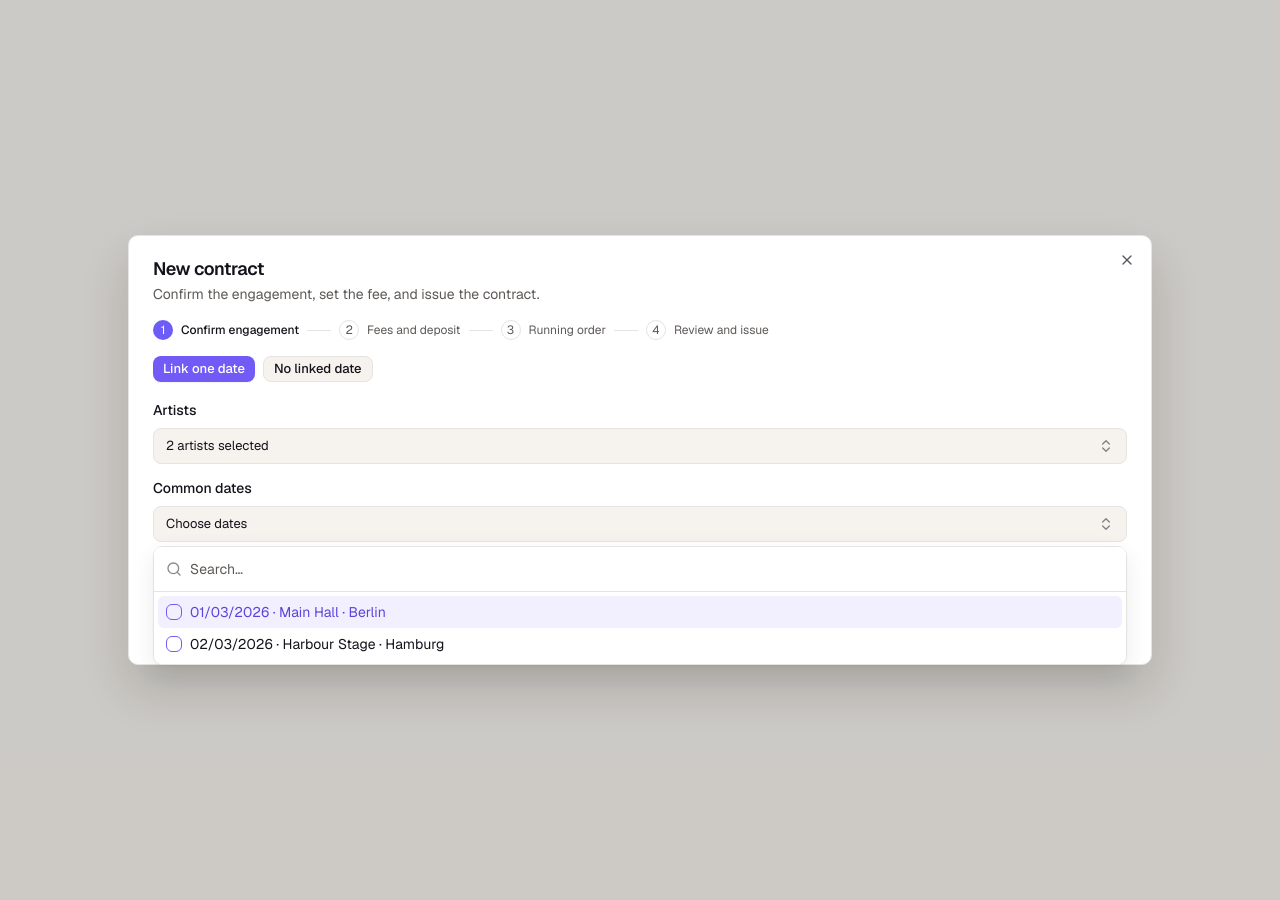
NewOrderWizard › retries only unissued orders and retains partial issue success across attempts
The image size is (1280, 900).
Earlier steps of the test are not shown.
Later steps or results of the test are not shown.
Click the option "01/03/2026 · Main Hall · Berlin" at {"x": 288, "y": 612}, box [158, 596, 1122, 628]
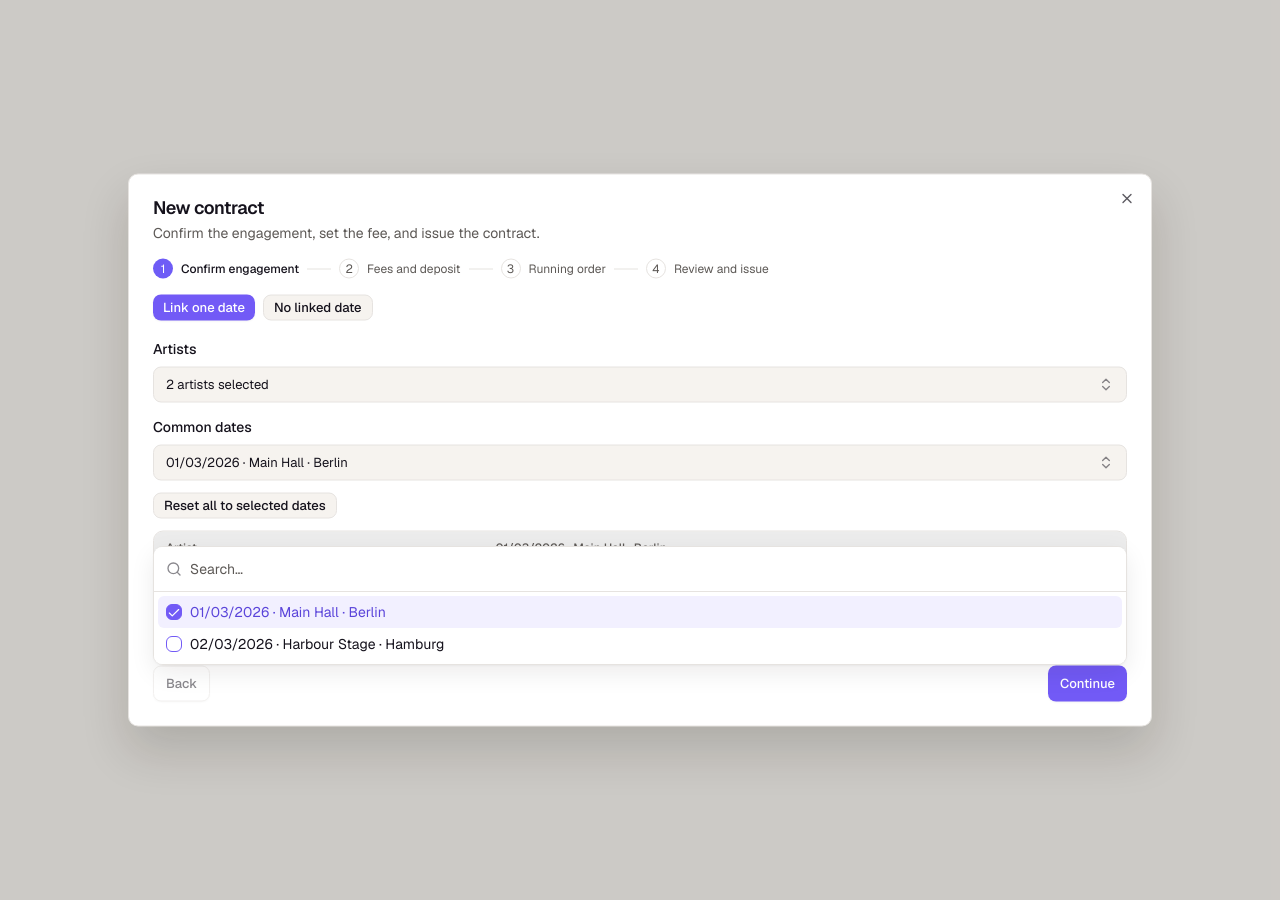
Click the dropdown named "select date" at {"x": 257, "y": 462}, box [153, 444, 1127, 480]
Click the button "Reset all to selected dates" at {"x": 245, "y": 506}, box [153, 492, 337, 518]
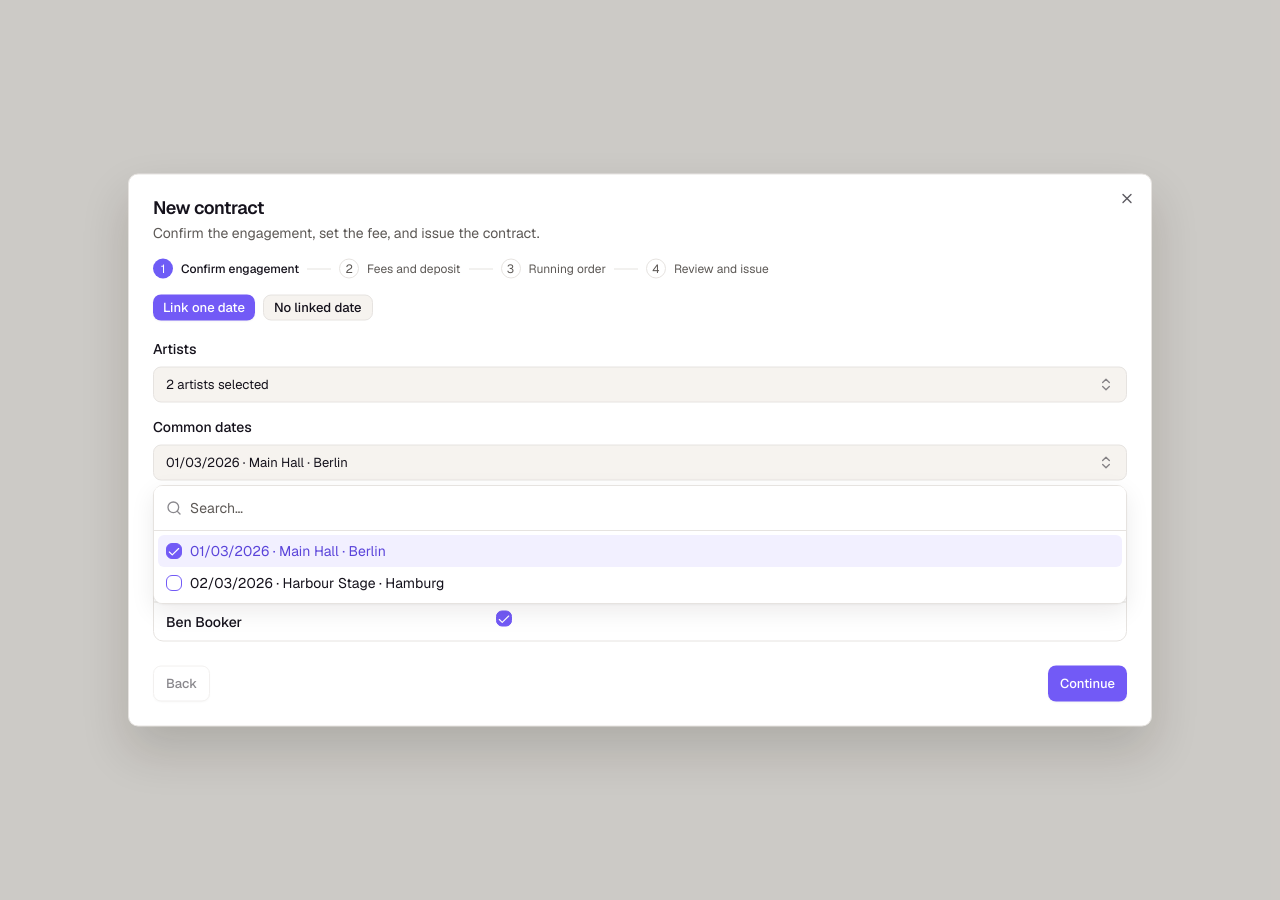
Click the button "Continue" at {"x": 1088, "y": 684}, box [1048, 666, 1127, 702]
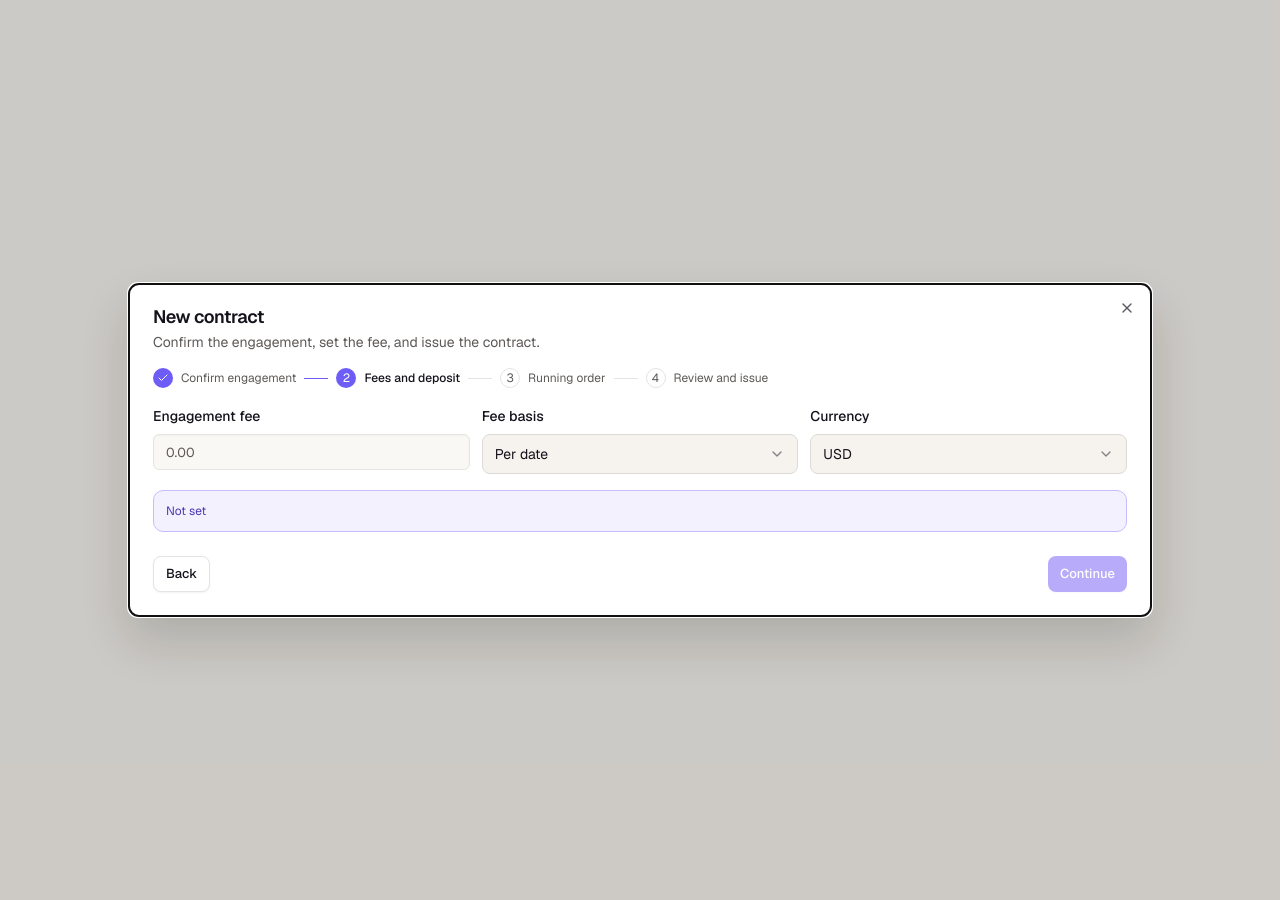
Type "1200" into the number field labelled "Engagement fee" at {"x": 311, "y": 452}, box [153, 434, 470, 470]
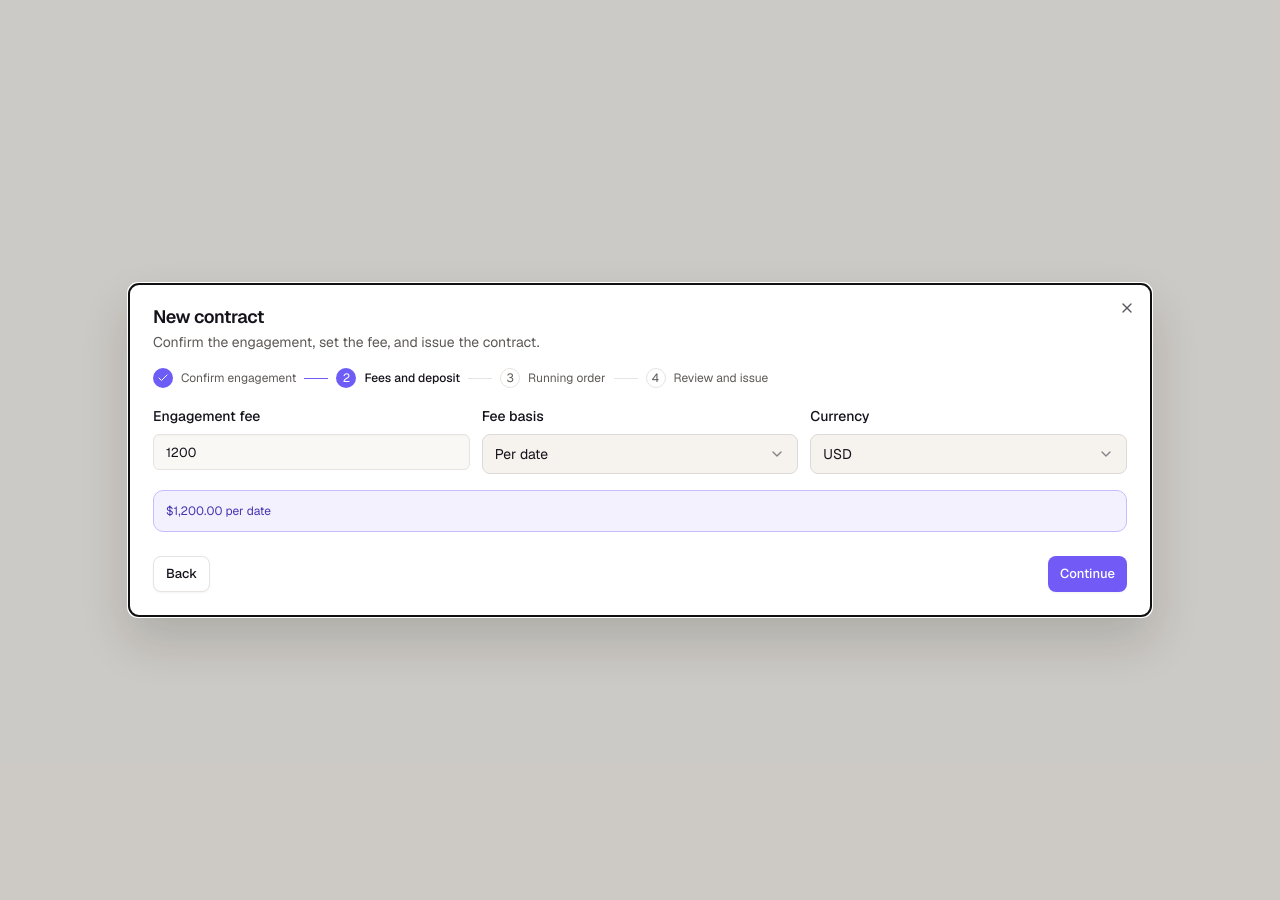
Click the button "Continue" at {"x": 1088, "y": 574}, box [1048, 556, 1127, 592]
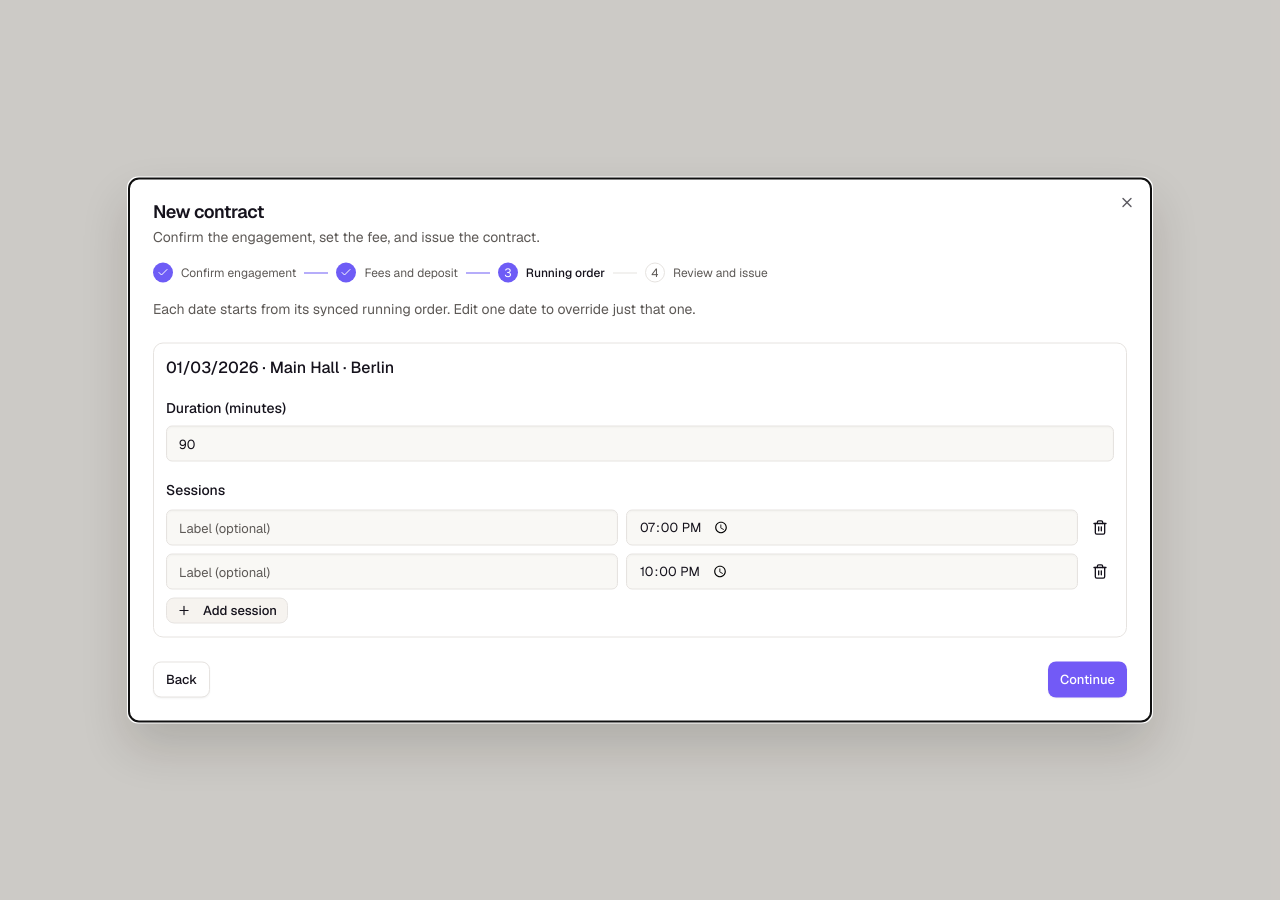
Click the button "Continue" at {"x": 1088, "y": 680}, box [1048, 662, 1127, 698]
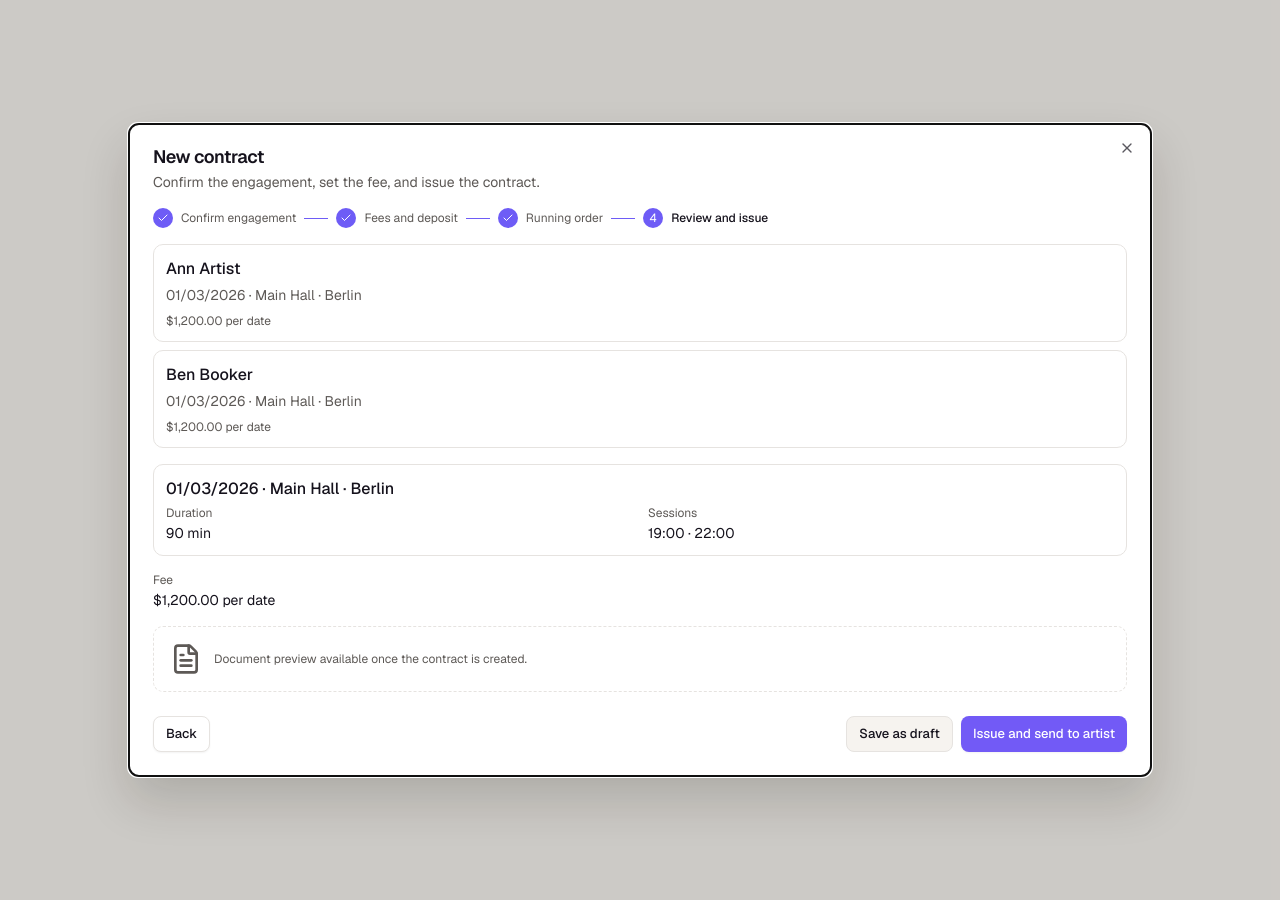
Expected: the button "Save as draft" is shown, [846, 716, 953, 752]
